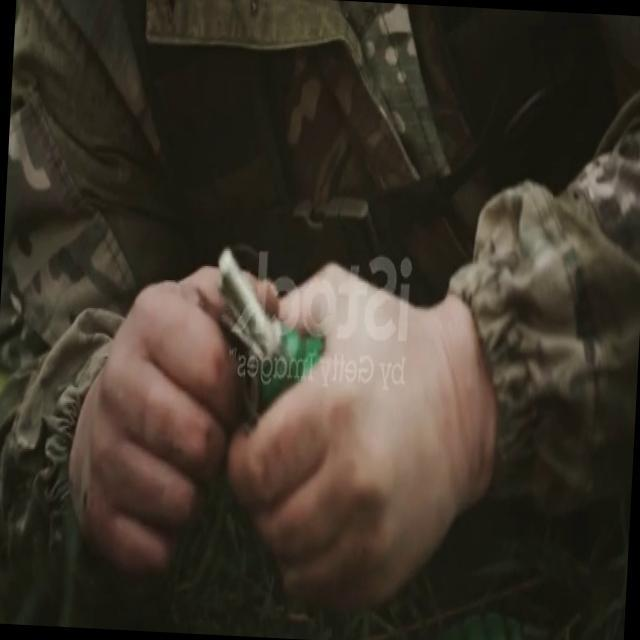grenade: (203, 243, 323, 400)
